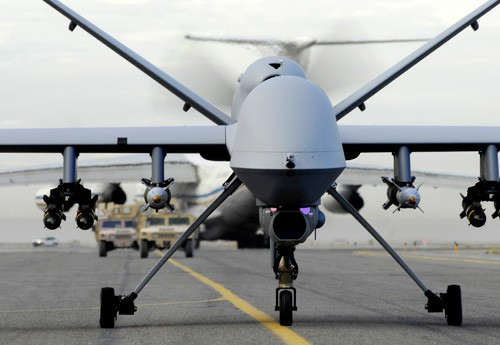maybay_khongnguoilai: (6, 8, 497, 320)
